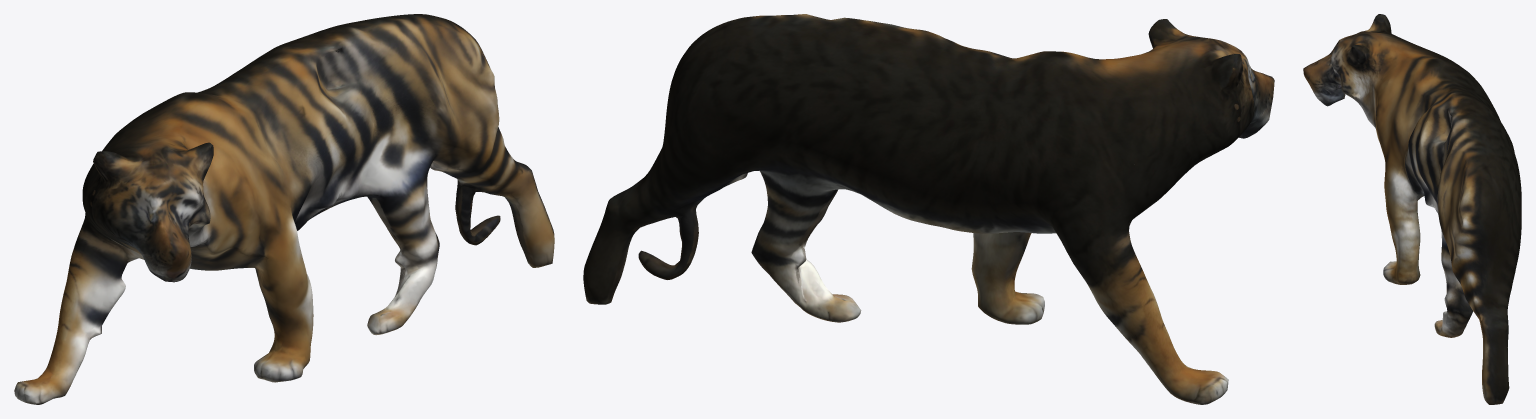
File: sumatra_tiger_0610083349.fbx
The picture shows the model from 3 angles, left to right: view 1: azimuth 30°, elevation 25°; view 2: azimuth 150°, elevation 25°; view 3: azimuth 270°, elevation 25°; orthographic projection. The views are drawn at different scales.
Parts seen in each view (by area): view 1: Mesh_0; view 2: Mesh_0; view 3: Mesh_0.
Boxes of the visible parts, bbox=[...] form: Mesh_0: bbox=[14, 14, 554, 404]; Mesh_0: bbox=[583, 14, 1274, 404]; Mesh_0: bbox=[1303, 14, 1521, 404].
Size of the model in its own units: 120 by 61.03 by 56.86.
Materials: 1 (1 with a texture image).
